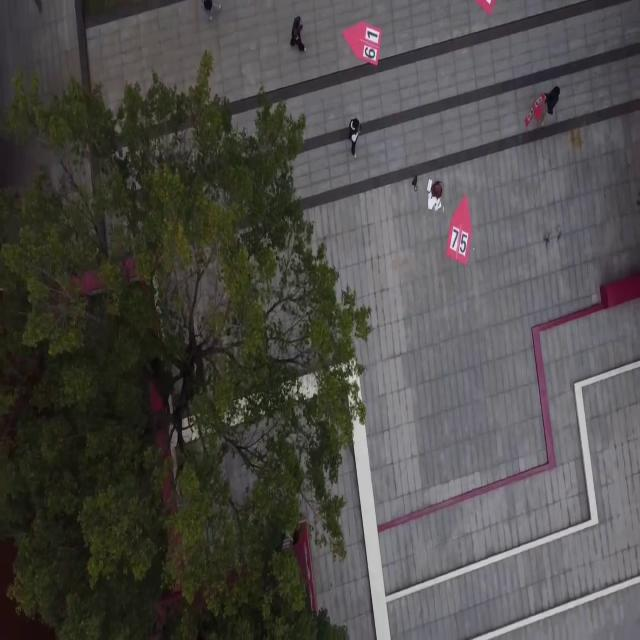-sign-: (342, 16, 386, 72), (445, 193, 473, 267)
